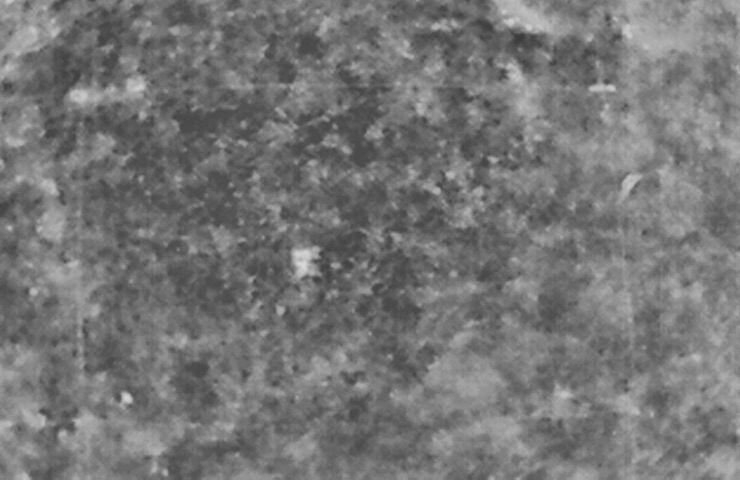landmines: (290, 245, 327, 285)
